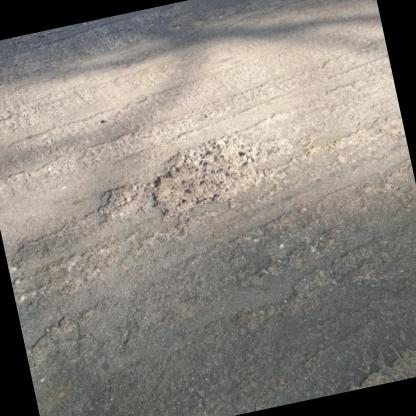pothole: (141, 132, 267, 216), (95, 178, 153, 224)
